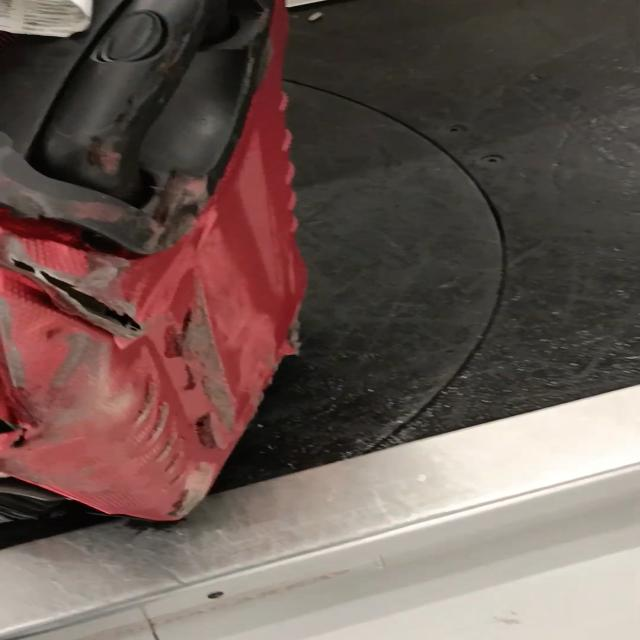Damage-bag: (2, 234, 247, 520), (78, 19, 198, 190), (142, 174, 209, 250)
